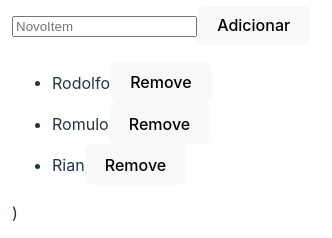
List component › should be able to remove item to the list
Click the button "Remove" next to "Rodolfo": point(161, 82) [110, 62, 212, 103]
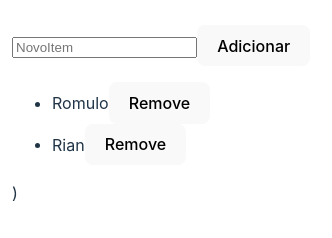
expect the list item "Rodolfo" is gone: met
